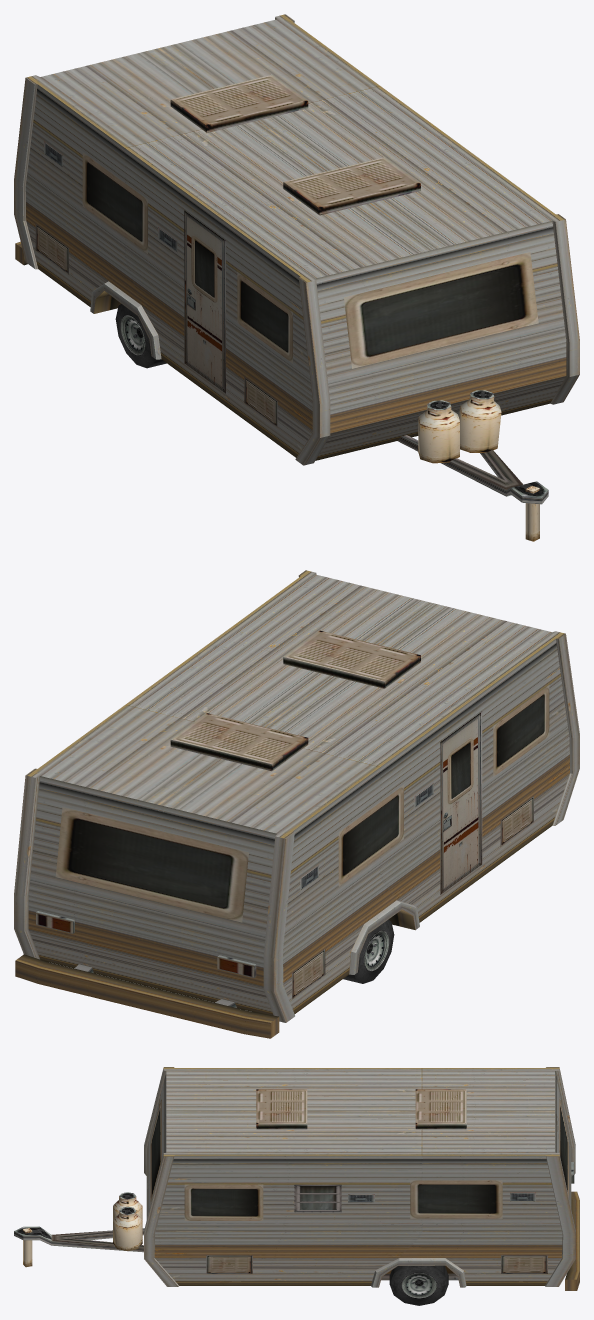
Rendered from rural_trailerh_2_rural_trailer_stuff_1_0_lev2.glb.
3 renders of one model, top to bottom at view 1: azimuth 30°, elevation 25°; view 2: azimuth 150°, elevation 25°; view 3: azimuth 270°, elevation 25°, orthographic. The views are drawn at different scales.
Visible parts, largest first — view 1: rural_trailerh_2_rural_trailer_stuff_1_0_lev2; view 2: rural_trailerh_2_rural_trailer_stuff_1_0_lev2; view 3: rural_trailerh_2_rural_trailer_stuff_1_0_lev2.
Part boxes in pixels (x1,y1,x2,y2): rural_trailerh_2_rural_trailer_stuff_1_0_lev2: (14,14,579,541); rural_trailerh_2_rural_trailer_stuff_1_0_lev2: (14,570,579,1038); rural_trailerh_2_rural_trailer_stuff_1_0_lev2: (14,1067,579,1305).
Bounding box in the file's own units: 2.1 × 1.7 × 5.52.
Materials: 1 (1 with a texture image).
